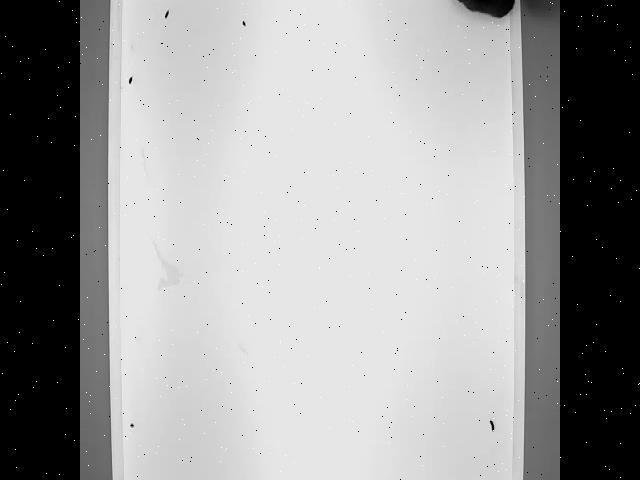Tikus: (449, 0, 519, 24)
